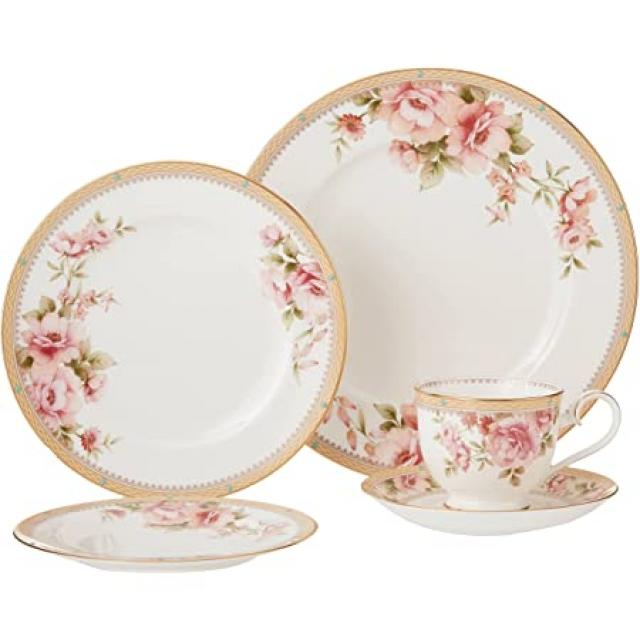non-organic waste: (260, 80, 640, 529), (4, 143, 383, 518), (27, 474, 380, 613)
